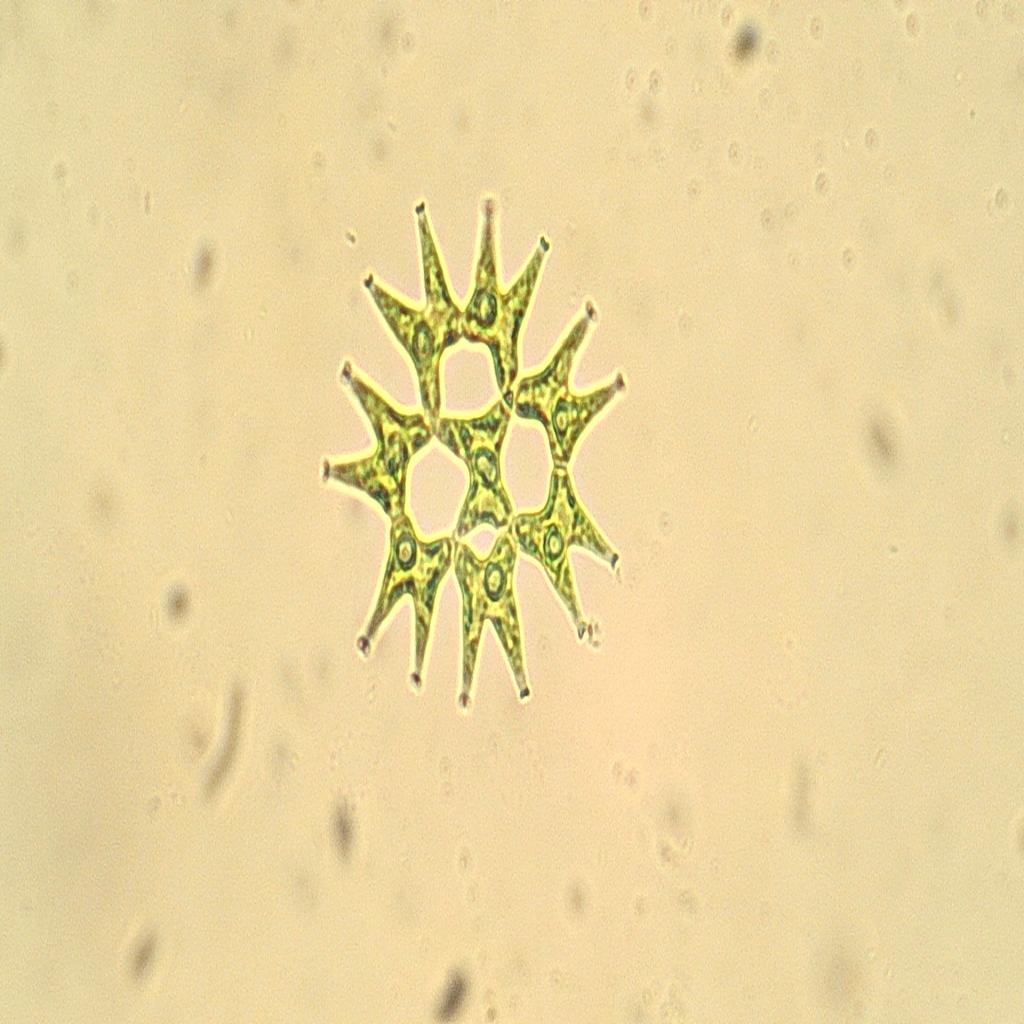Pediastrum_CTH: (303, 180, 659, 733)
